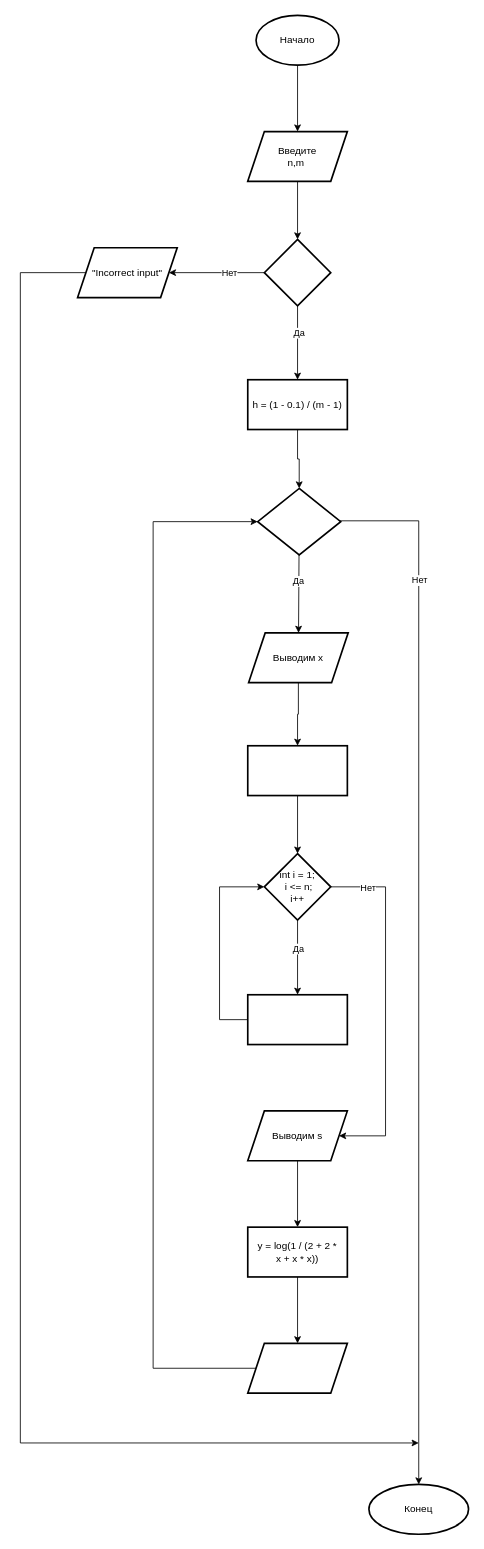
The diagram is 484 pixels wide and 1549 high, and some of its shapes have lost their labels. Here are the shapes that lost their labels. From the top down, the box of each, then its label:
(263, 238, 331, 306): (n > 0) && (m > 0)
(256, 487, 341, 555): x = 0.1; x <= 1; x = x + h
(247, 745, 348, 796): s = 0
(247, 994, 348, 1045): s = s + pow(-1, i) * pow(1 + x, 2 * i) / i;
(247, 1342, 348, 1394): Выводим у
